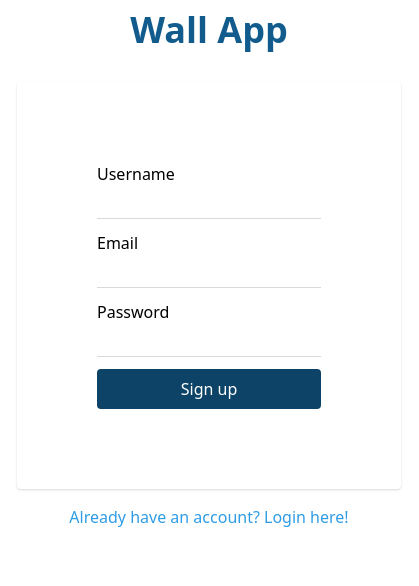
Test case: SignUp tests › renders an error message
The image size is (419, 586).
In the field labelled "Username": coordinates (209, 202) [97, 186, 321, 219], type "someUser"
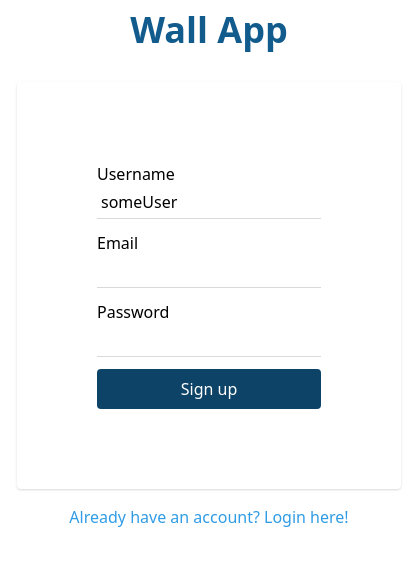
In the field labelled "Email": coordinates (209, 272) [97, 255, 321, 288], type "some@email.com"
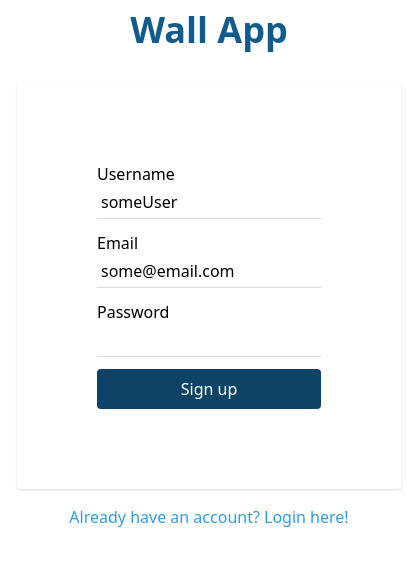
In the password field labelled "Password": coordinates (209, 340) [97, 324, 321, 357], type "SomeValue"
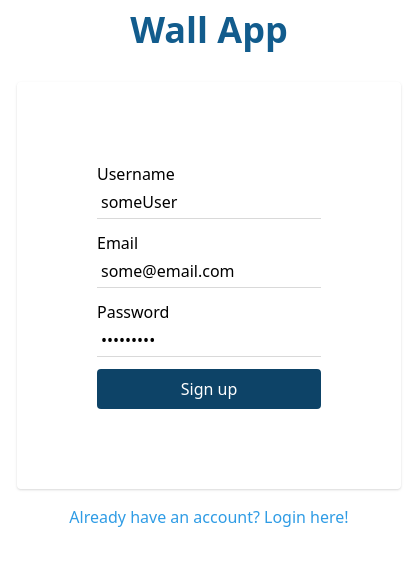
Click the button "Sign up": coordinates (209, 389) [97, 369, 321, 409]
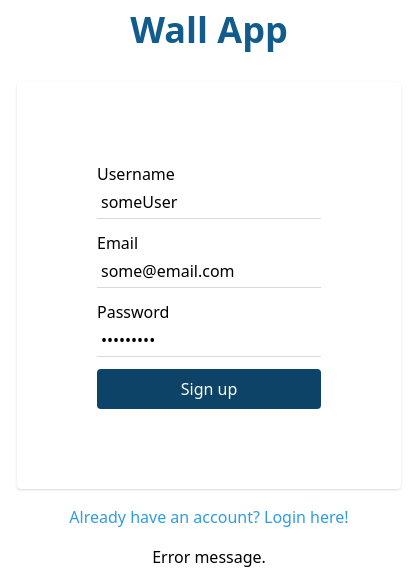
Expected: the text "Error message." is shown, [152, 545, 266, 569]
